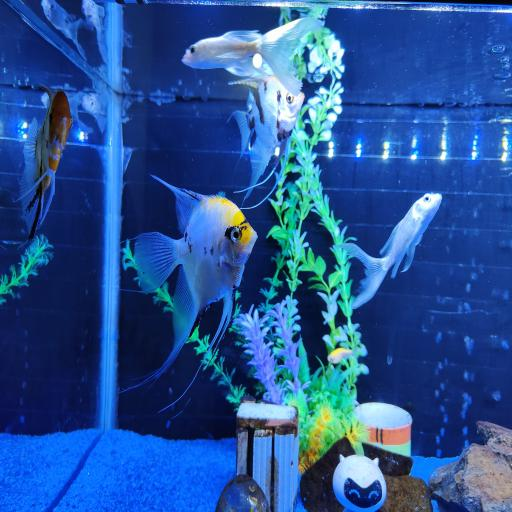Fish: (134, 176, 257, 385), (339, 194, 441, 308), (182, 18, 322, 96), (231, 76, 304, 204), (20, 87, 72, 239), (41, 0, 88, 59), (82, 0, 107, 63), (82, 93, 106, 133), (328, 348, 352, 364)
